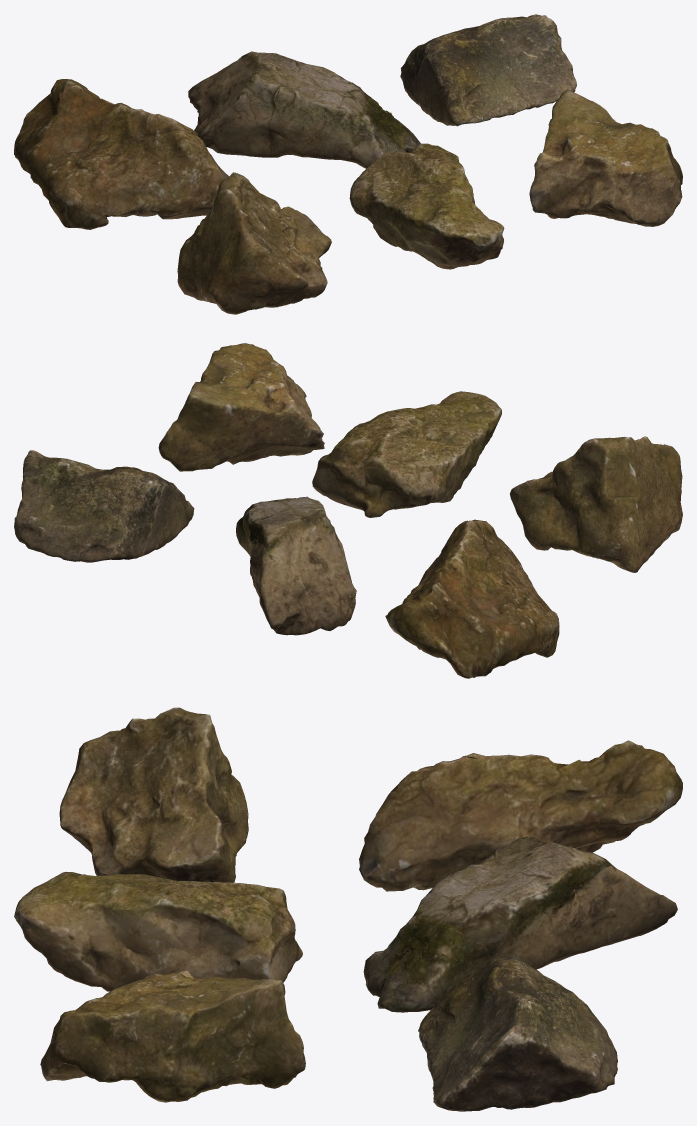
Rendered from rock_moss_set_01.glb.
3 views of the same model, one above another, from view 1: azimuth 30°, elevation 25°; view 2: azimuth 150°, elevation 25°; view 3: azimuth 270°, elevation 25° (orthographic). The views are drawn at different scales.
Visible parts, largest first — view 1: rock_moss_set_01_rock01, rock_moss_set_01_rock02, rock_moss_set_01_rock06, rock_moss_set_01_rock04, rock_moss_set_01_rock03, rock_moss_set_01_rock05; view 2: rock_moss_set_01_rock04, rock_moss_set_01_rock01, rock_moss_set_01_rock05, rock_moss_set_01_rock03, rock_moss_set_01_rock06, rock_moss_set_01_rock02; view 3: rock_moss_set_01_rock01, rock_moss_set_01_rock02, rock_moss_set_01_rock05, rock_moss_set_01_rock06, rock_moss_set_01_rock04, rock_moss_set_01_rock03.
Boxes of the visible parts, box(x1,y1,x2,y2) form: rock_moss_set_01_rock01: box(14, 79, 228, 229); rock_moss_set_01_rock02: box(188, 51, 420, 168); rock_moss_set_01_rock06: box(529, 89, 682, 226); rock_moss_set_01_rock04: box(177, 172, 331, 314); rock_moss_set_01_rock03: box(400, 14, 576, 126); rock_moss_set_01_rock05: box(349, 143, 504, 269); rock_moss_set_01_rock04: box(510, 436, 682, 572); rock_moss_set_01_rock01: box(385, 519, 559, 678); rock_moss_set_01_rock05: box(312, 391, 501, 517); rock_moss_set_01_rock03: box(14, 450, 194, 562); rock_moss_set_01_rock06: box(158, 343, 324, 471); rock_moss_set_01_rock02: box(236, 496, 356, 635); rock_moss_set_01_rock01: box(359, 740, 682, 891); rock_moss_set_01_rock02: box(363, 837, 677, 1012); rock_moss_set_01_rock05: box(14, 872, 302, 991); rock_moss_set_01_rock06: box(40, 970, 305, 1102); rock_moss_set_01_rock04: box(59, 707, 248, 882); rock_moss_set_01_rock03: box(418, 956, 617, 1111).
Bounding box in the file's own units: 8.01 × 1.77 × 6.95.
1 material, 1 textured.
